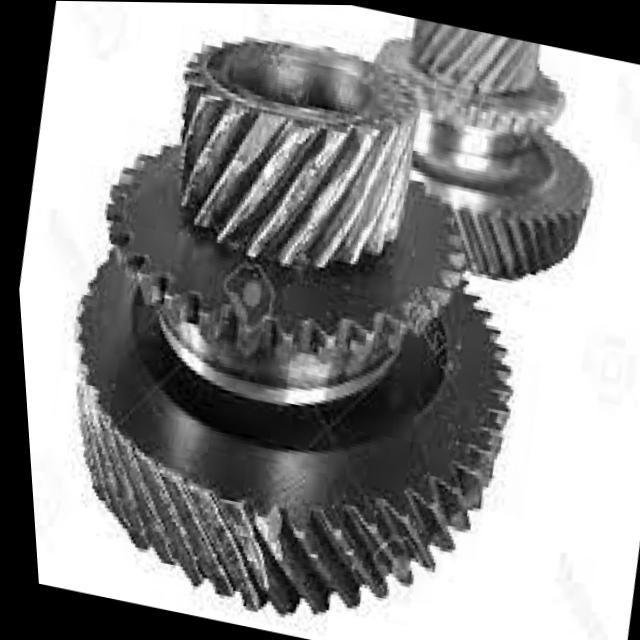Fault-Exist: (25, 375, 517, 640), (139, 55, 459, 287), (379, 68, 567, 147), (451, 197, 564, 291)
No Fault: (90, 238, 425, 380)
